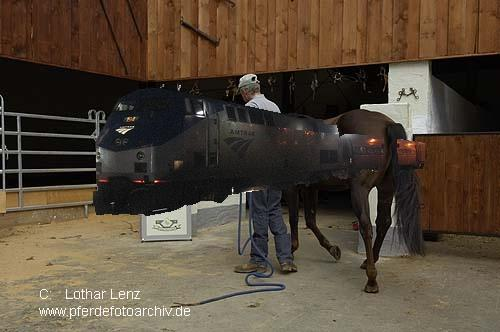tampered: (93, 89, 425, 216)
